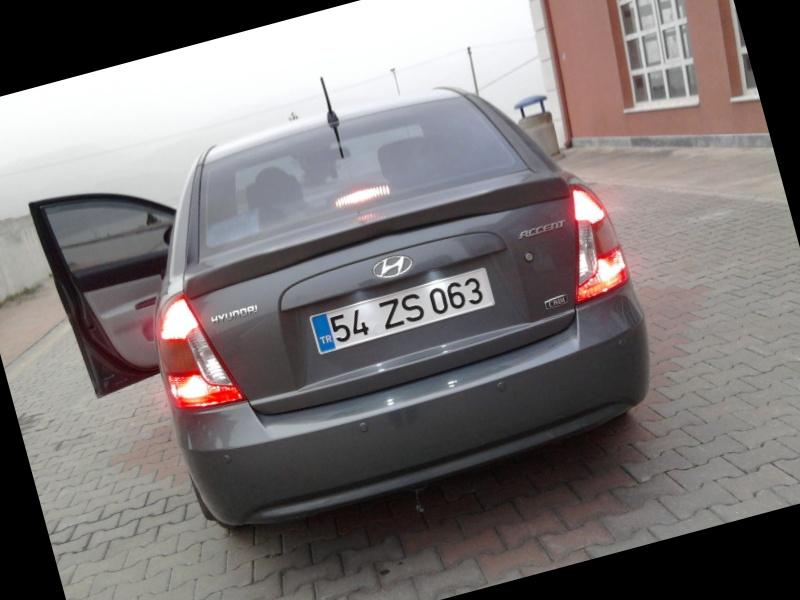plaka: (317, 271, 520, 346)
